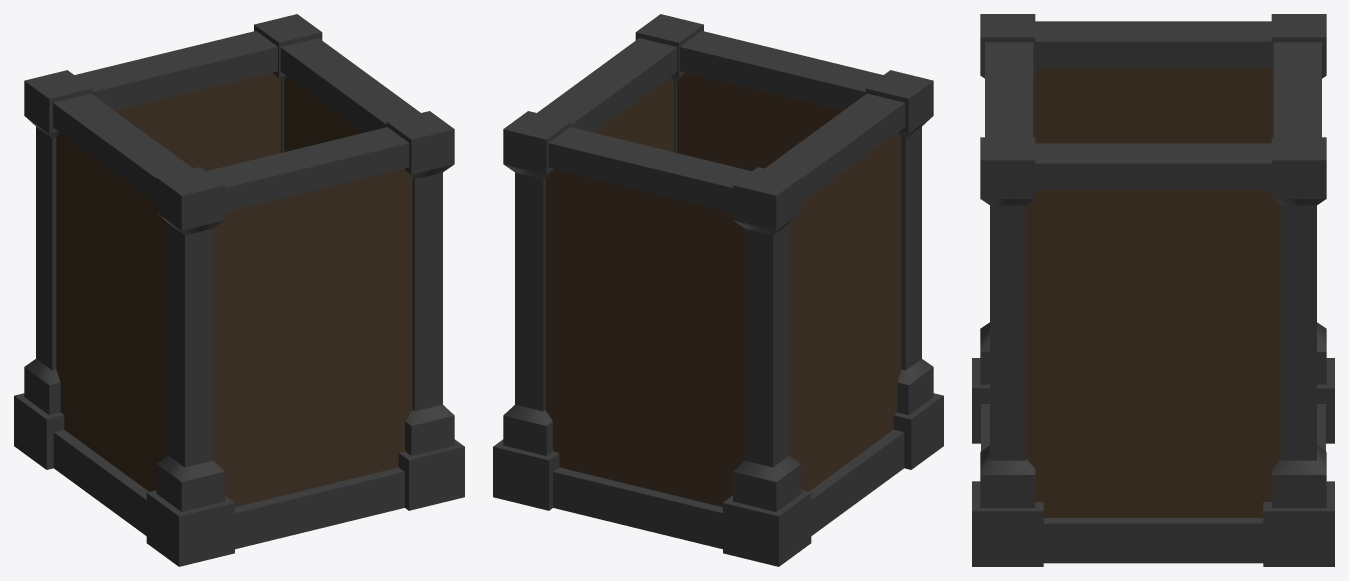
The model's file is Wall.fbx.
3 views of the same model, side by side, from view 1: azimuth 30°, elevation 25°; view 2: azimuth 150°, elevation 25°; view 3: azimuth 270°, elevation 25° (orthographic). The views are drawn at different scales.
Visible parts, largest first — view 1: Wall01; view 2: Wall01; view 3: Wall01.
Boxes of the visible parts, x1=… form: Wall01: x1=14, y1=14, x2=464, y2=566; Wall01: x1=493, y1=14, x2=943, y2=566; Wall01: x1=972, y1=14, x2=1334, y2=566.
Size of the model in its own units: 280 by 343 by 280.
